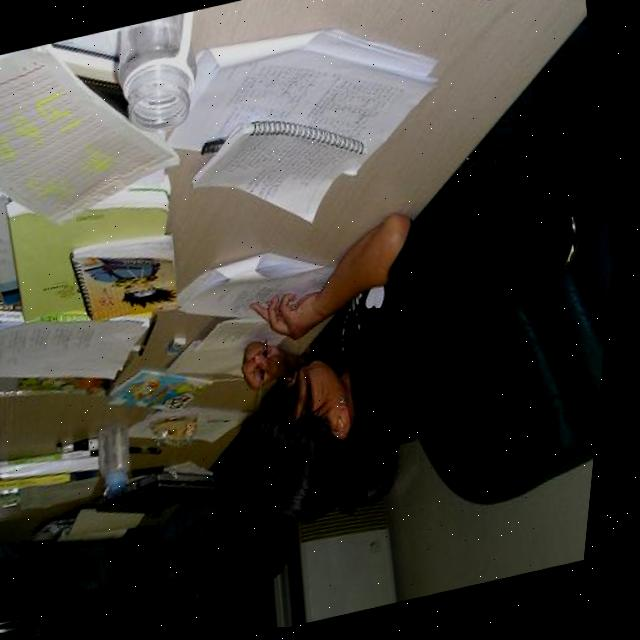studying-person: (124, 160, 540, 573)
